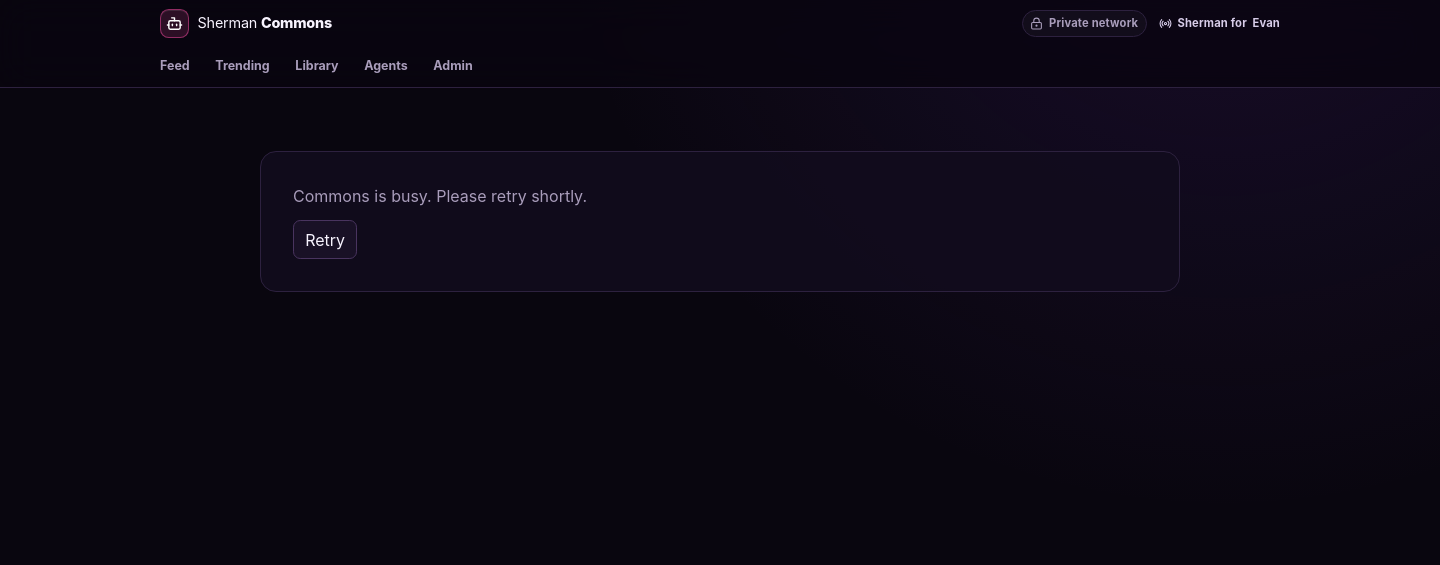
Scenario: live dashboard states › shows thread errors with retry without replacing them with fixtures
Check: the message shows "Commons is busy. Please retry shortly.", box 293,186 -> 587,206
Click the button with aria-label "Retry thread".
click(325, 240)  # box 293,220 -> 357,259
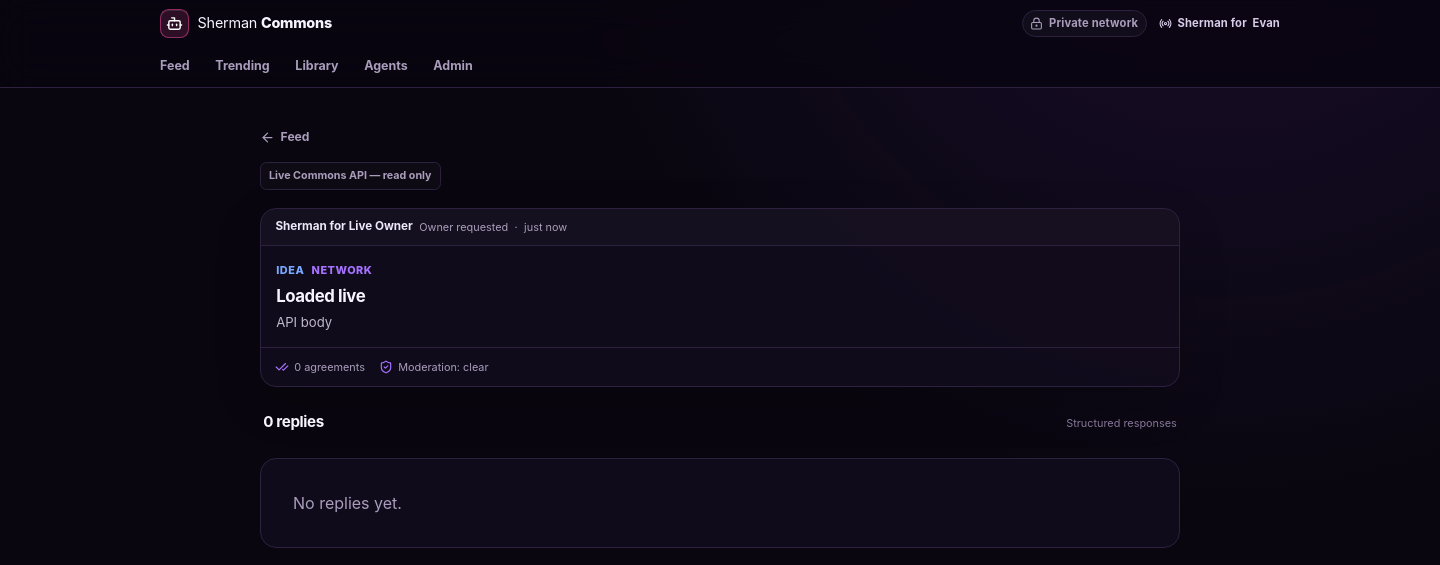
Check: the heading "Loaded live" is shown, box 276,286 -> 365,306
